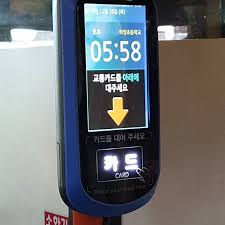terminal: (49, 1, 167, 220)
